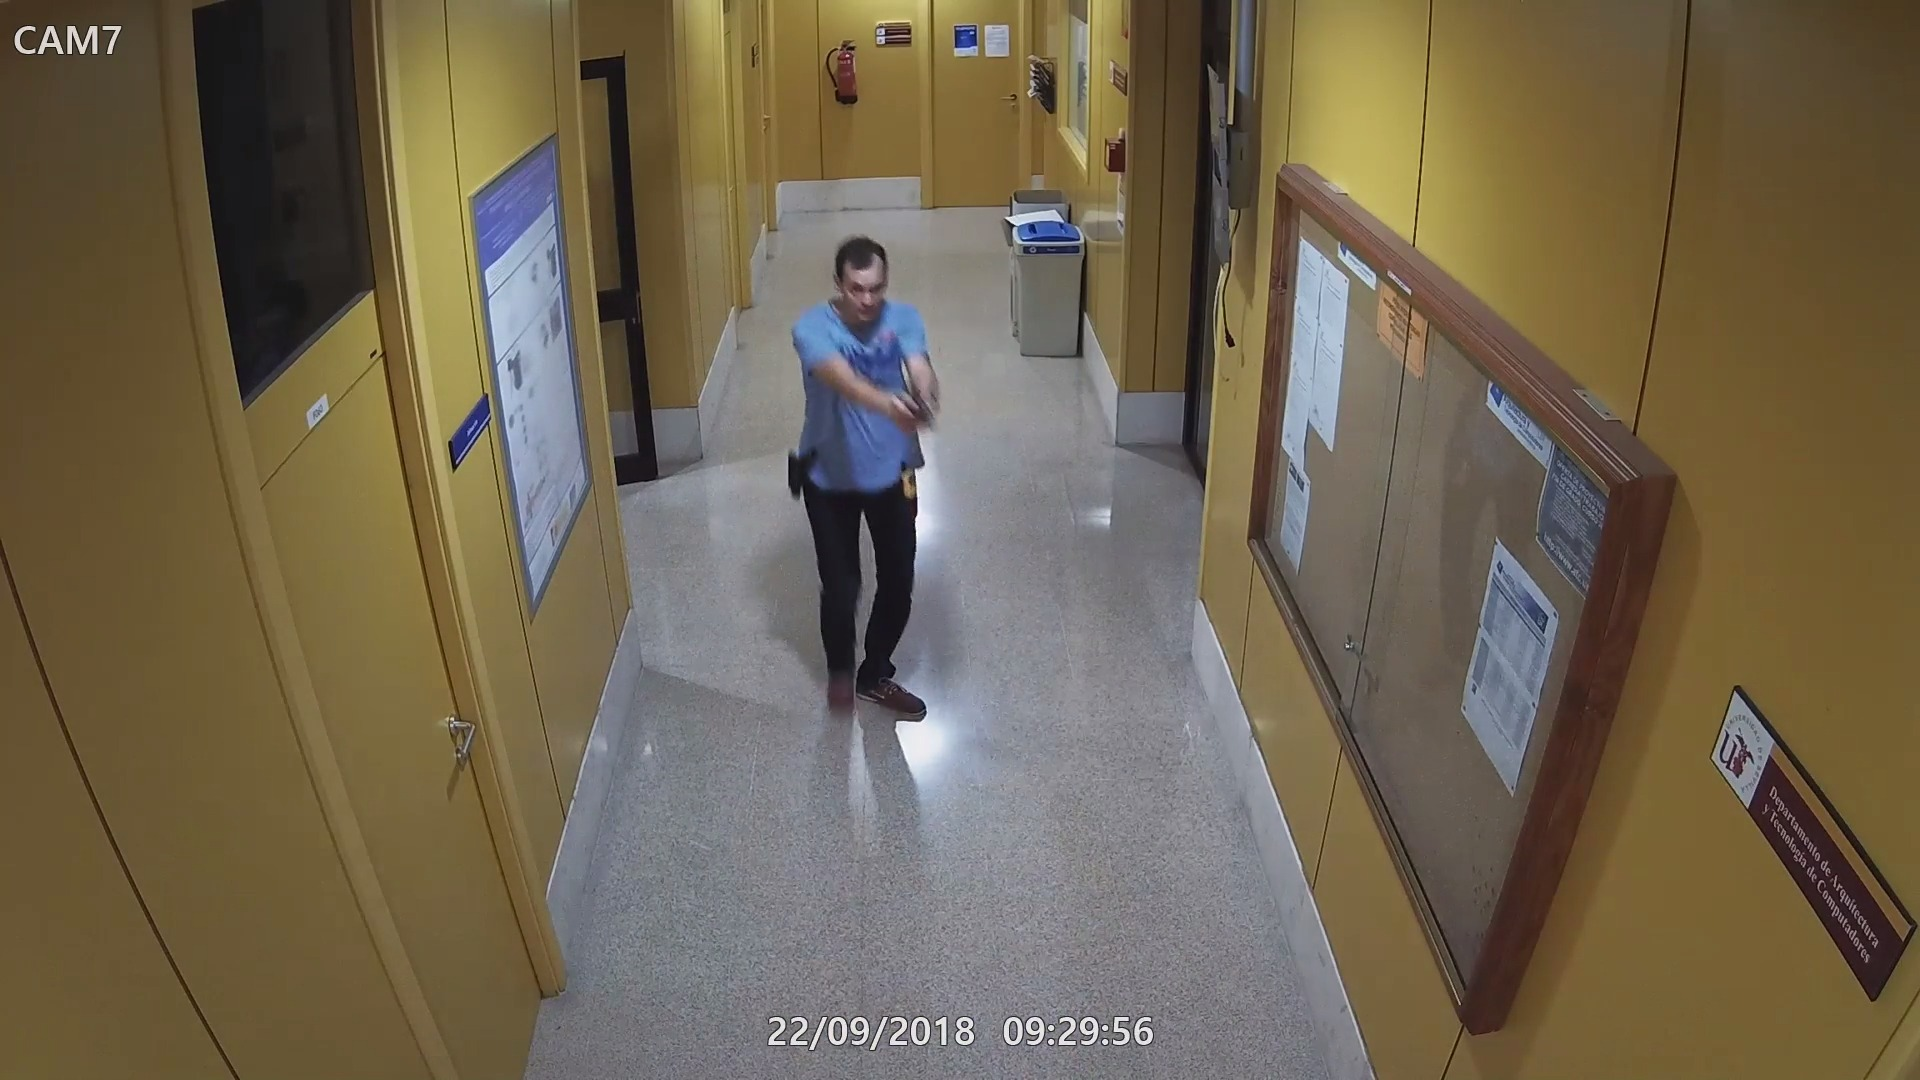Handgun: (885, 386, 945, 436)
